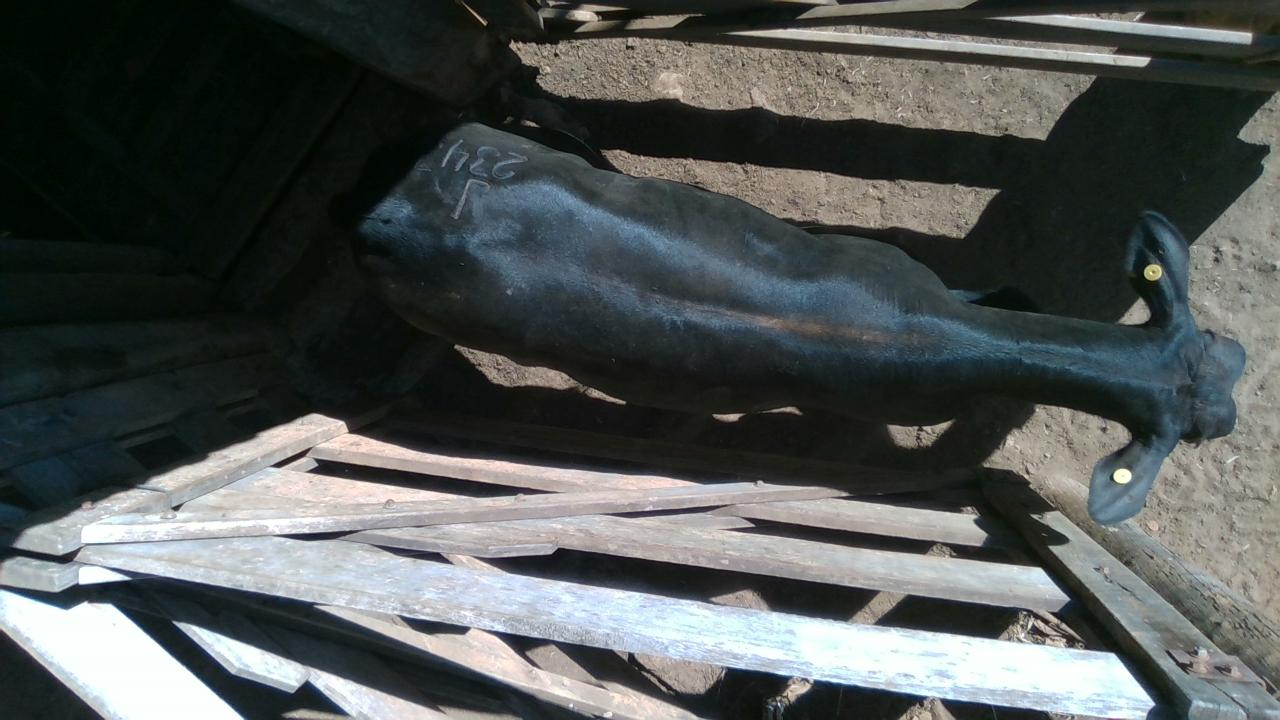cattle: (349, 118, 1246, 524)
